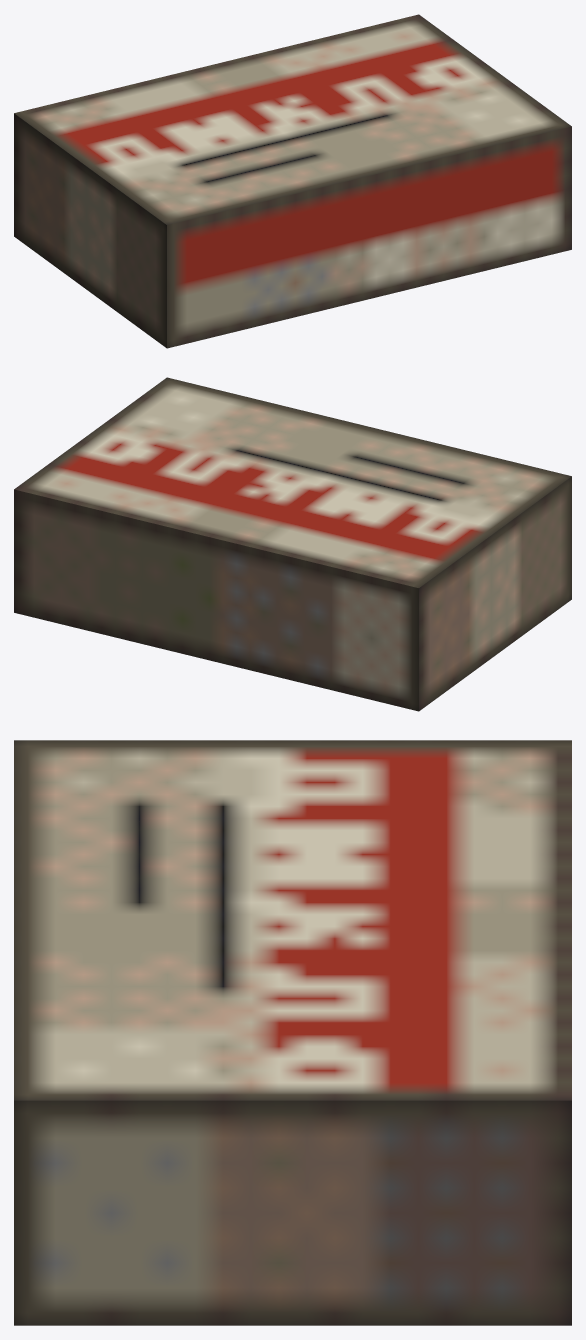
File: SM_Matchbox_01.fbx
3 renders of one model, top to bottom at view 1: azimuth 30°, elevation 25°; view 2: azimuth 150°, elevation 25°; view 3: azimuth 270°, elevation 25°, orthographic. The views are drawn at different scales.
Visible parts, largest first — view 1: SM_Matchbox_01; view 2: SM_Matchbox_01; view 3: SM_Matchbox_01.
Part boxes in pixels (left/top/right/bottom): SM_Matchbox_01: left=14, top=14, right=571, bottom=348; SM_Matchbox_01: left=14, top=377, right=571, bottom=711; SM_Matchbox_01: left=14, top=740, right=571, bottom=1325.
Bounding box in the file's own units: 0.055 × 0.016 × 0.036.
Materials: 1 (1 with a texture image).
